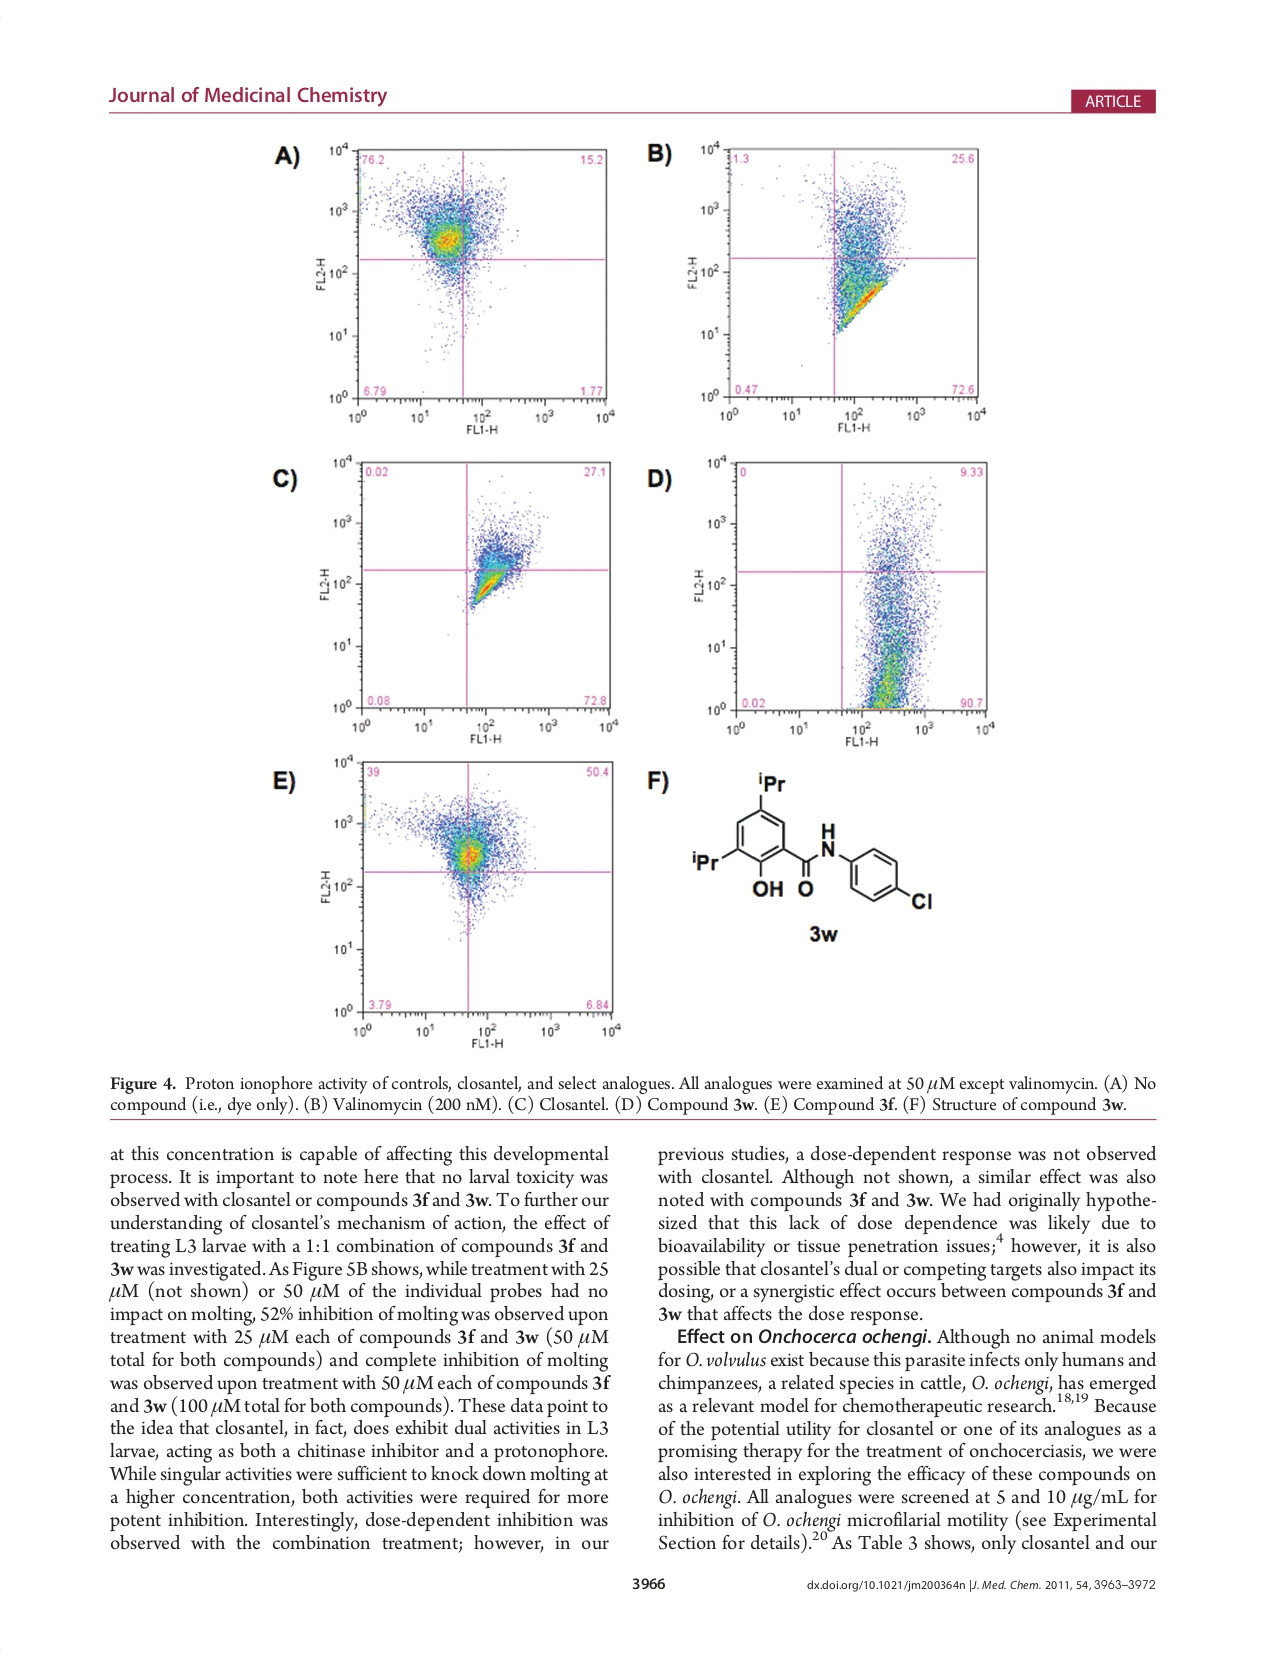exist_molecular: (692, 770, 936, 910)
